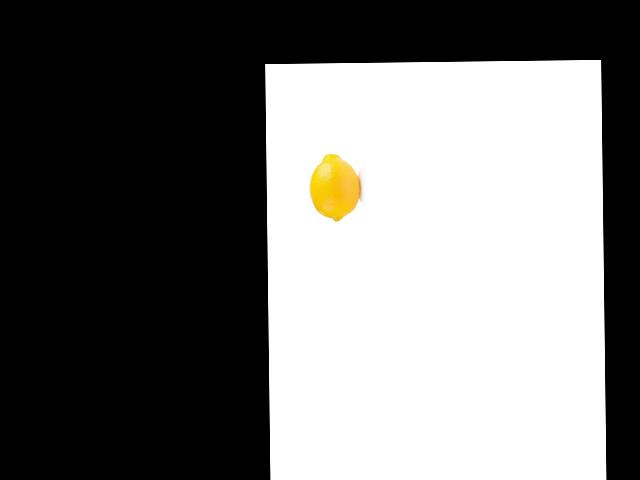lemon: (308, 150, 364, 223)
